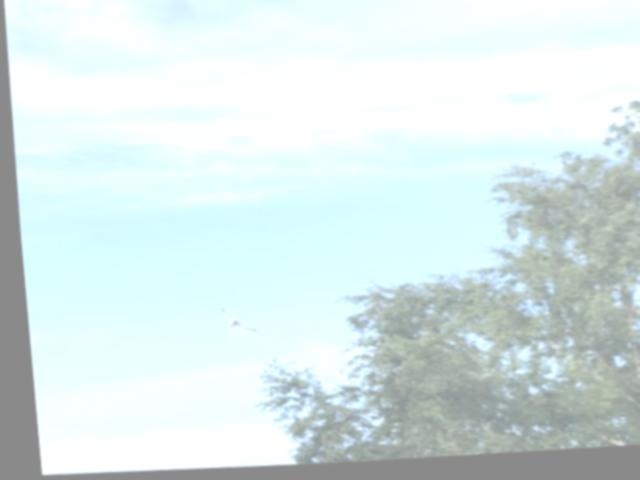bird: (199, 305, 274, 343)
